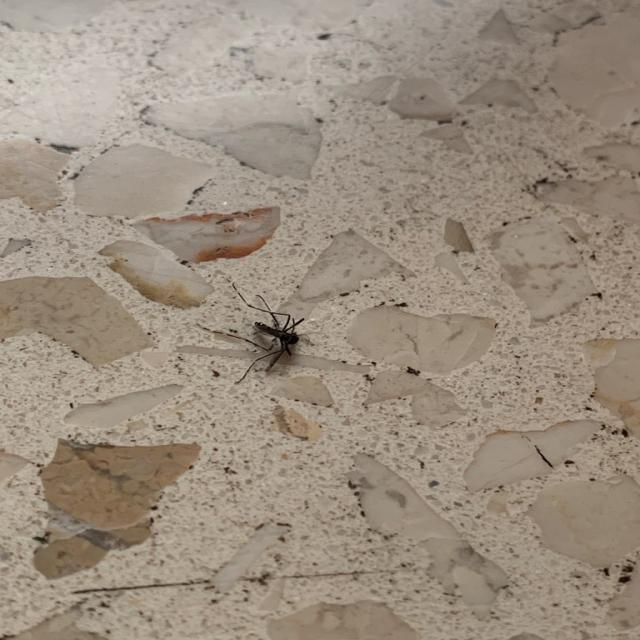albopictus: (197, 278, 330, 384)
